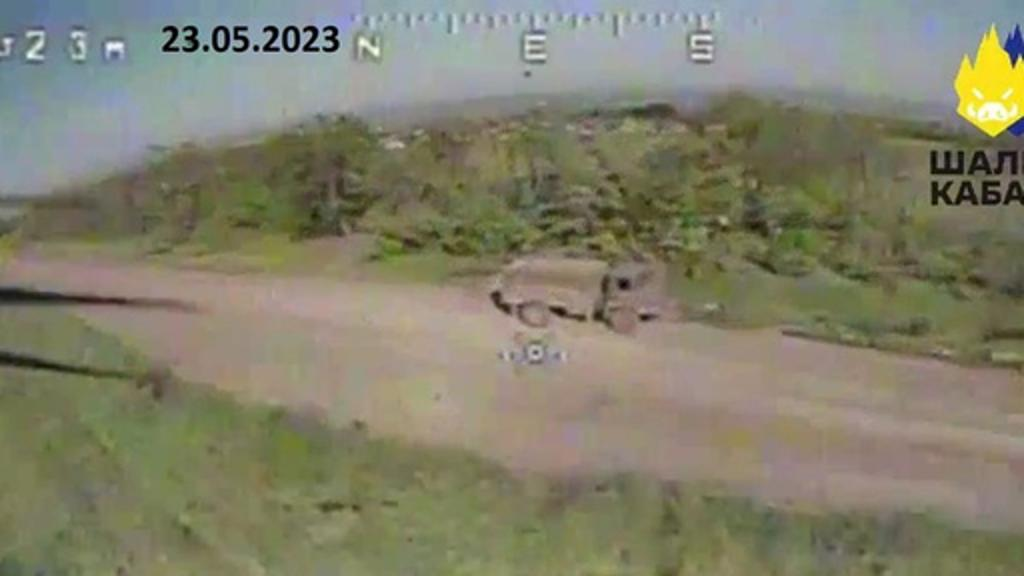TRUCK: (486, 246, 662, 344)
